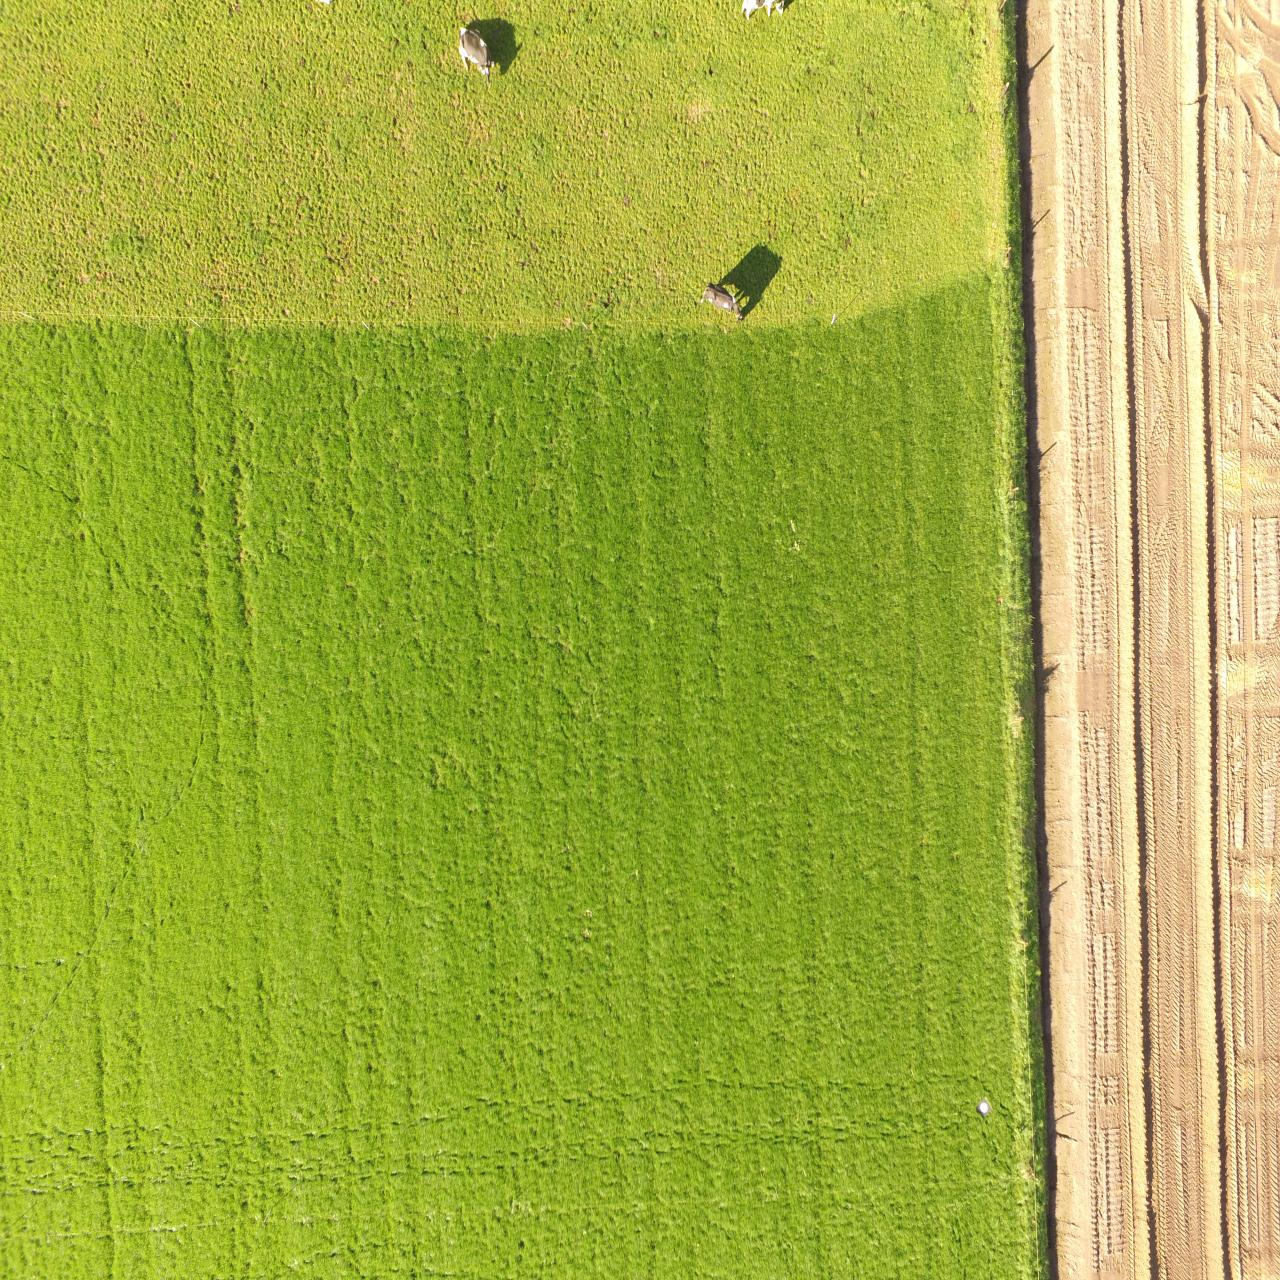cow: (455, 23, 499, 83), (699, 279, 745, 325), (738, 0, 799, 18)
